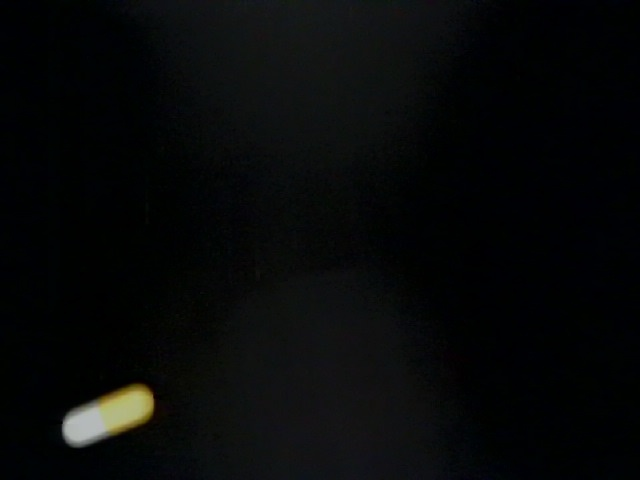YHLJ: (294, 202, 409, 266)
